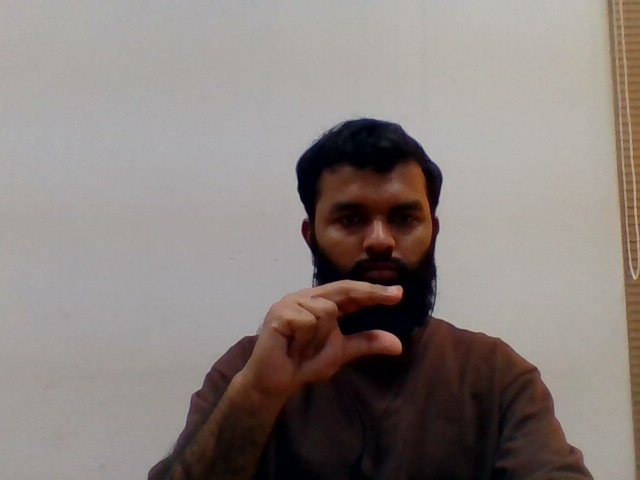No: (243, 277, 429, 393)
